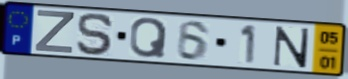1: (238, 23, 256, 66)
6: (175, 20, 212, 62)
N: (270, 25, 312, 70)
Q: (128, 16, 169, 59)
S: (75, 11, 116, 57)
Z: (33, 9, 77, 55)
